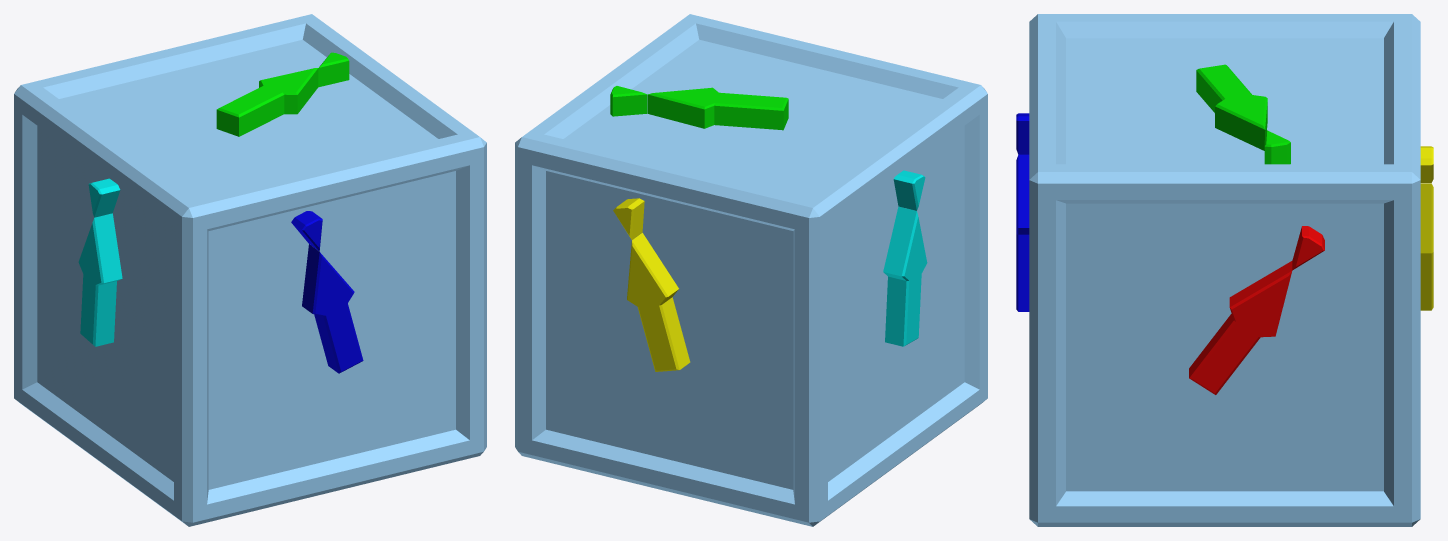
File: OrientationTest.glb
3 views of the same model, side by side, from view 1: azimuth 30°, elevation 25°; view 2: azimuth 150°, elevation 25°; view 3: azimuth 270°, elevation 25° (orthographic). The views are drawn at different scales.
Parts seen in each view (by area): view 1: BaseCube, ArrowZ1, ArrowX2, ArrowY1, TargetX2, TargetY1, TargetZ1; view 2: BaseCube, ArrowZ2, ArrowY1, ArrowX2, TargetY1, TargetX2, TargetZ2; view 3: BaseCube, ArrowX1, ArrowY1, ArrowZ1, ArrowZ2, TargetX1, TargetY1, TargetZ1, TargetZ2.
Boxes of the visible parts, x1,y1,x2,y2 form: BaseCube: (14,14,486,526); ArrowZ1: (302,244,363,373); ArrowX2: (78,213,122,346); ArrowY1: (216,68,318,136); TargetX2: (88,178,120,217); TargetY1: (318,52,349,87); TargetZ1: (291,211,322,251); BaseCube: (515,14,987,526); ArrowZ2: (627,233,690,371); ArrowY1: (647,87,788,130); ArrowX2: (883,206,927,346); TargetY1: (610,86,647,116); TargetX2: (893,170,925,210); TargetZ2: (613,198,644,239); BaseCube: (1029,14,1420,526); ArrowX1: (1189,261,1292,394); ArrowY1: (1196,64,1267,150); ArrowZ1: (1016,154,1029,311); ArrowZ2: (1420,183,1433,310); TargetX1: (1292,226,1324,270); TargetY1: (1264,130,1290,164); TargetZ1: (1016,113,1029,154); TargetZ2: (1420,146,1433,182).
Bounding box in the file's own units: 3.45 × 3.45 × 3.45.
